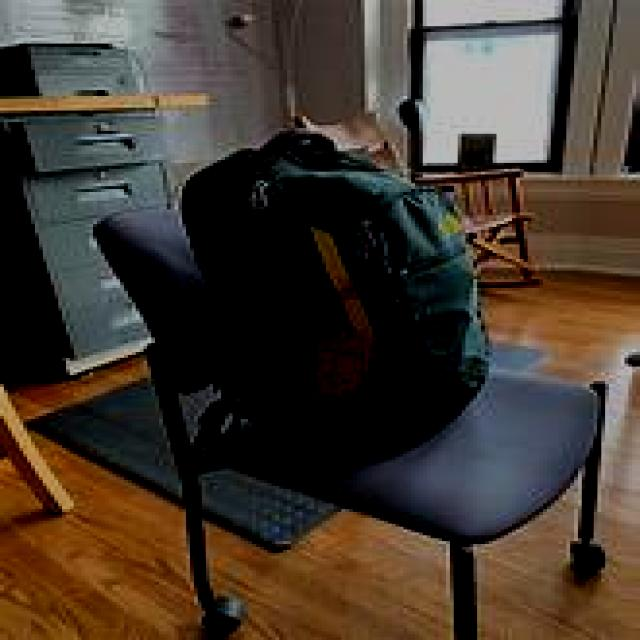backpack: (180, 126, 494, 452)
